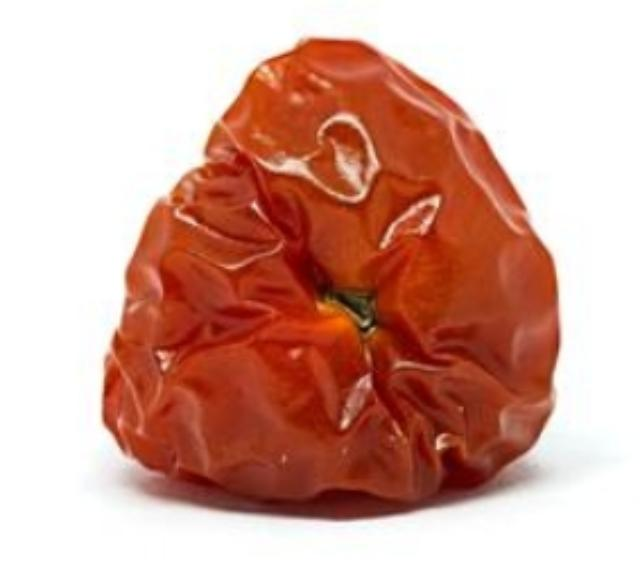defect: (87, 17, 574, 528)
